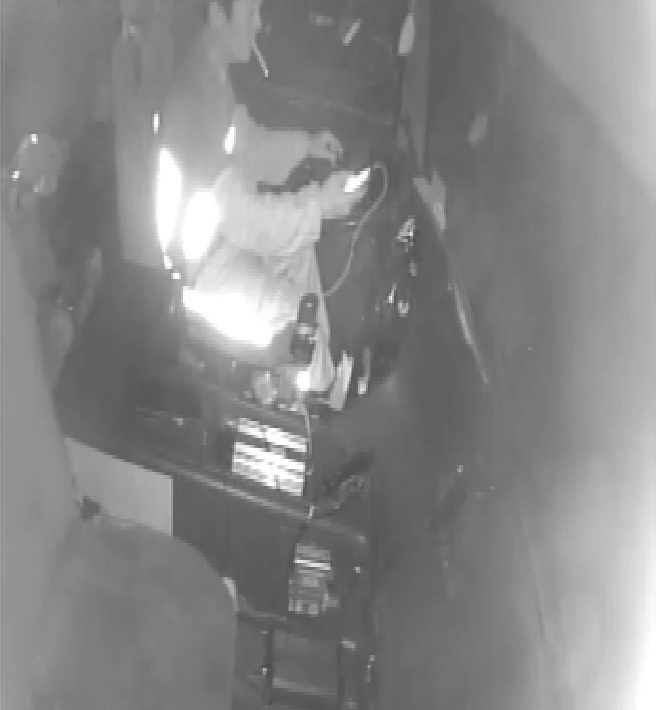cellphone: (328, 167, 373, 201)
